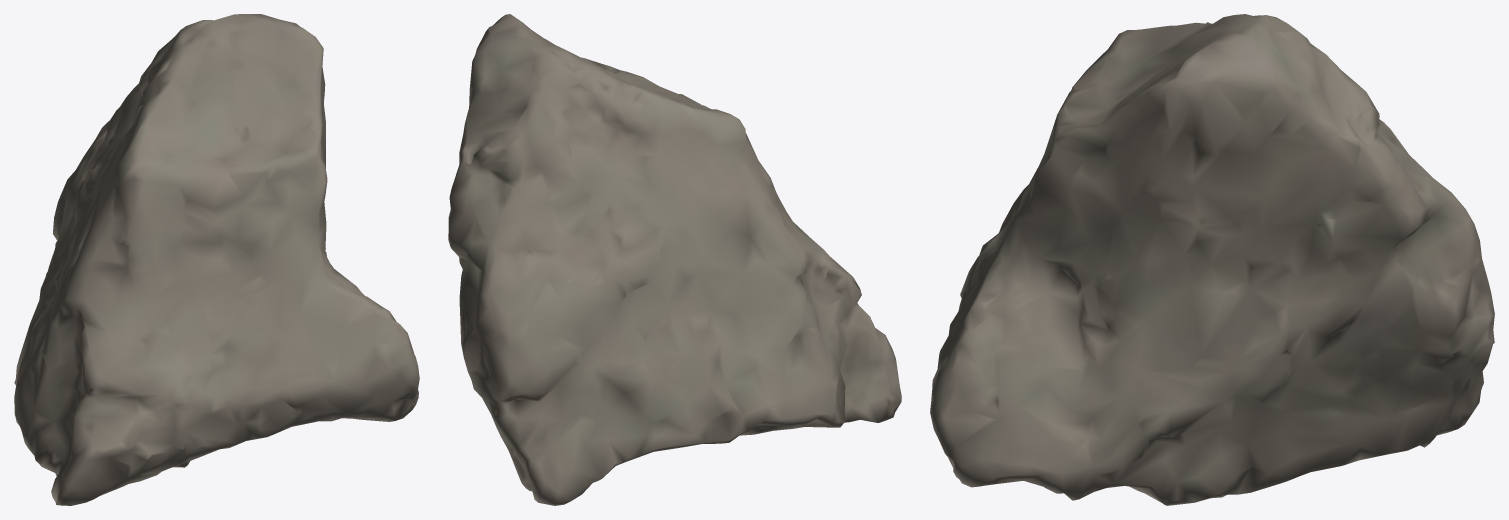
The model's file is moon_rock_05_lod1.glb.
The picture shows the model from 3 angles, left to right: view 1: azimuth 30°, elevation 25°; view 2: azimuth 150°, elevation 25°; view 3: azimuth 270°, elevation 25°; orthographic projection. The views are drawn at different scales.
Visible parts, largest first — view 1: moon_rock_05_LOD0; view 2: moon_rock_05_LOD0; view 3: moon_rock_05_LOD0.
Boxes of the visible parts, x1,y1,x2,y2 form: moon_rock_05_LOD0: (14,14,419,505); moon_rock_05_LOD0: (448,14,901,505); moon_rock_05_LOD0: (930,14,1494,505).
Size of the model in its own units: 0.0717 by 0.0734 by 0.0811.
1 material, 1 textured.
